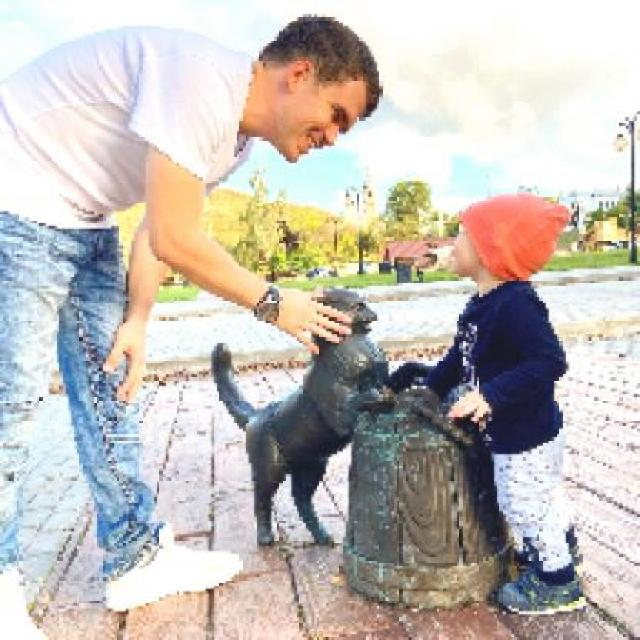child: (423, 192, 586, 614)
